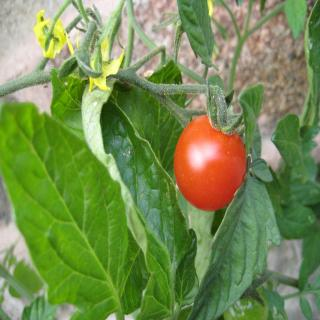tomato: (172, 113, 249, 210)
